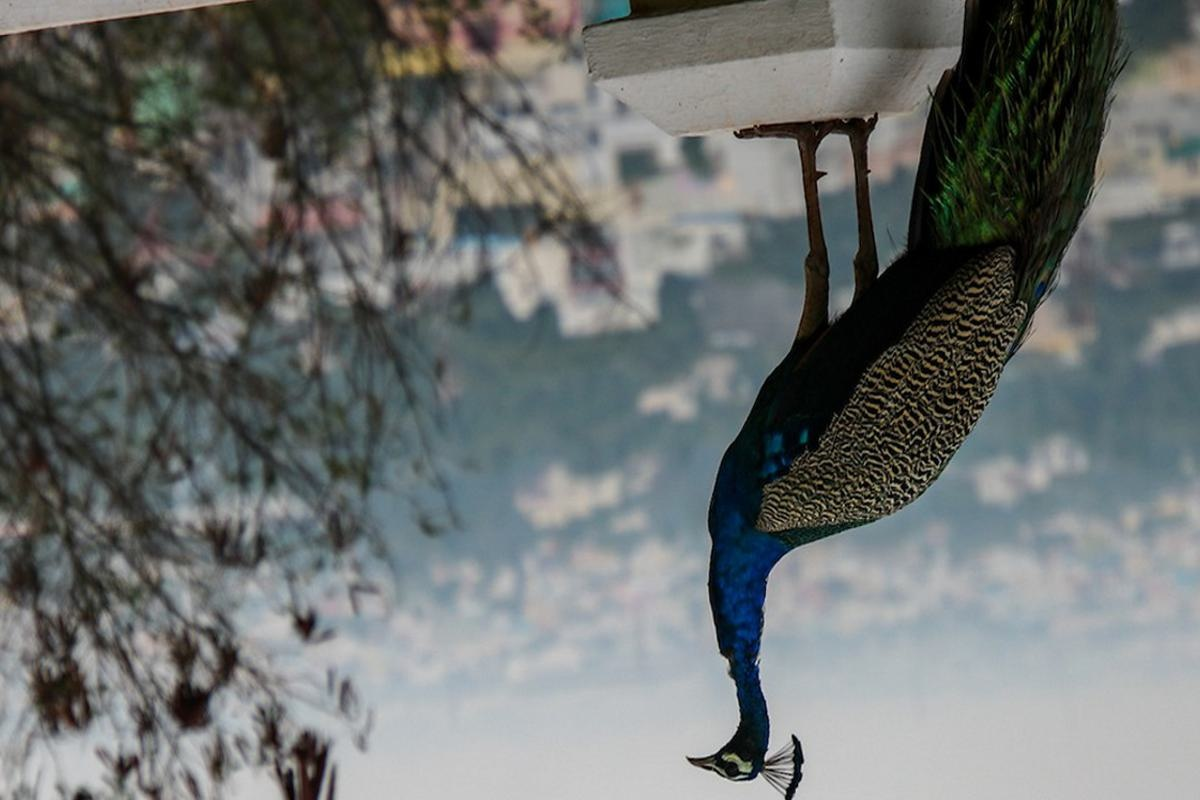peacock: (679, 10, 1086, 788)
